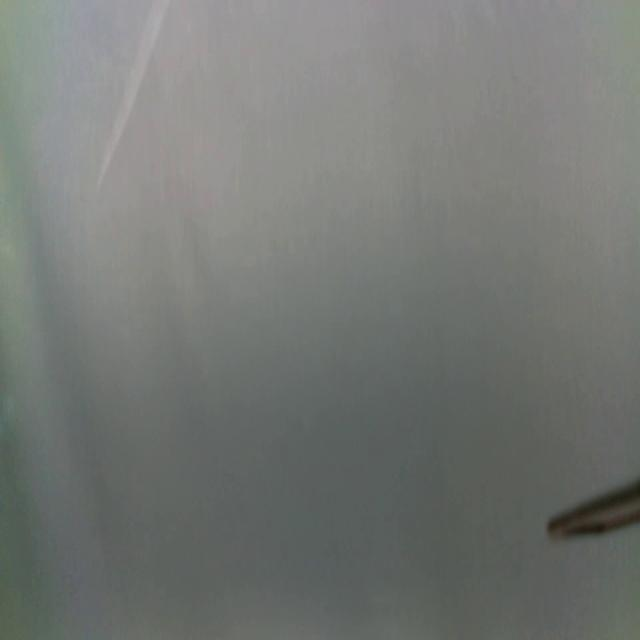crease: (94, 0, 175, 197)
